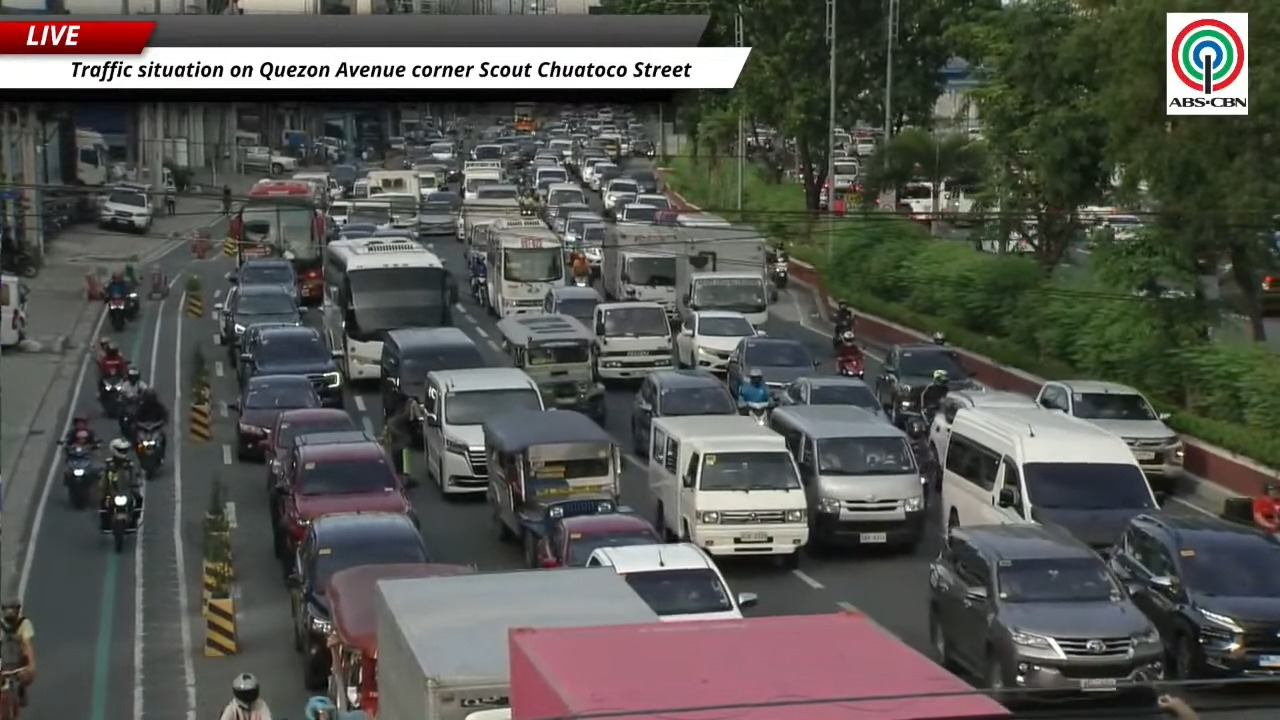bus: (324, 236, 457, 382), (229, 179, 328, 304), (483, 218, 565, 317), (513, 102, 536, 132)
car: (928, 524, 1164, 699), (1109, 514, 1279, 679), (288, 512, 430, 690), (271, 433, 412, 567), (1035, 379, 1184, 490), (585, 543, 757, 621), (380, 327, 486, 420), (264, 408, 358, 510), (631, 369, 737, 457), (237, 325, 343, 407), (929, 389, 1037, 467), (228, 375, 321, 460), (875, 343, 970, 424), (539, 513, 662, 567), (215, 285, 301, 360), (726, 336, 818, 395), (675, 310, 757, 372), (778, 375, 883, 416), (226, 257, 299, 301), (99, 183, 153, 232), (542, 285, 601, 327), (416, 199, 457, 237), (602, 176, 640, 206), (617, 199, 661, 223), (626, 170, 660, 194), (637, 192, 674, 209), (338, 223, 377, 239)
motorcycle: (98, 476, 142, 552), (900, 412, 939, 497), (63, 444, 95, 509), (135, 422, 164, 479), (108, 490, 134, 552), (99, 367, 124, 417), (4, 247, 39, 278), (117, 395, 137, 442), (107, 295, 128, 331), (742, 402, 772, 427), (837, 352, 864, 378), (770, 261, 788, 289), (474, 277, 489, 308), (470, 274, 486, 302), (573, 275, 589, 286)
truck: (509, 611, 1011, 719), (375, 568, 658, 719), (601, 225, 769, 326), (676, 226, 770, 327), (600, 225, 686, 322), (593, 301, 673, 382), (42, 118, 111, 188), (457, 198, 522, 242), (462, 161, 505, 198)
